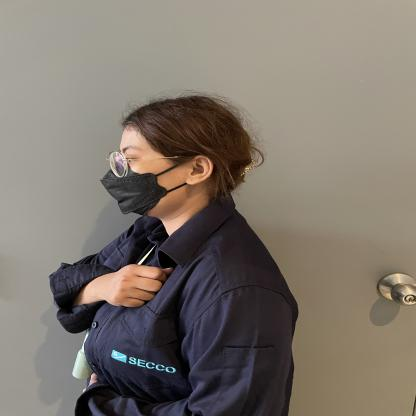Sadness: (34, 237, 205, 330)
